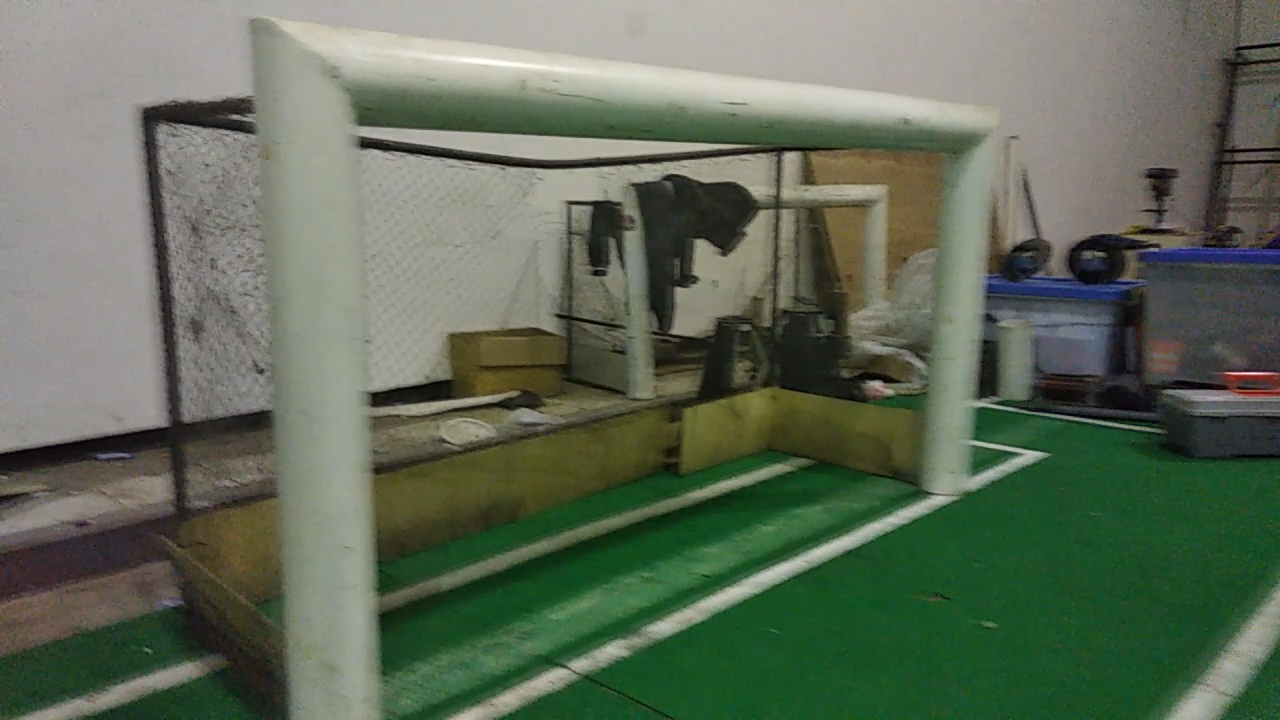gawang: (234, 7, 1012, 719)
